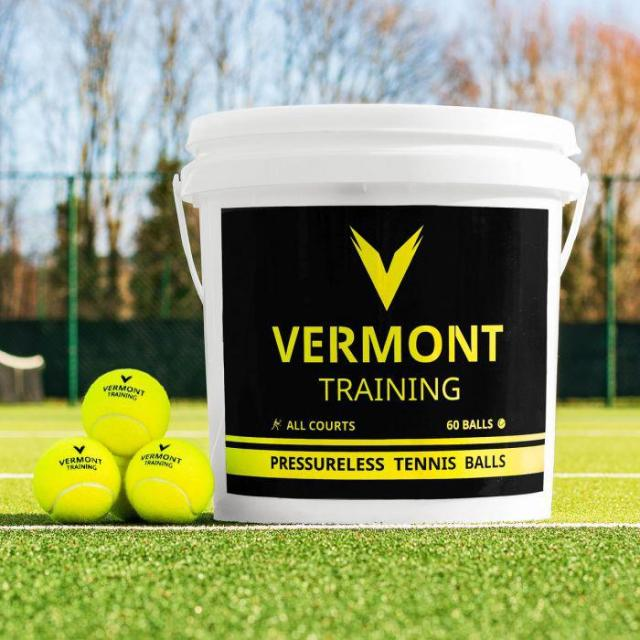ball: (74, 363, 174, 452)
